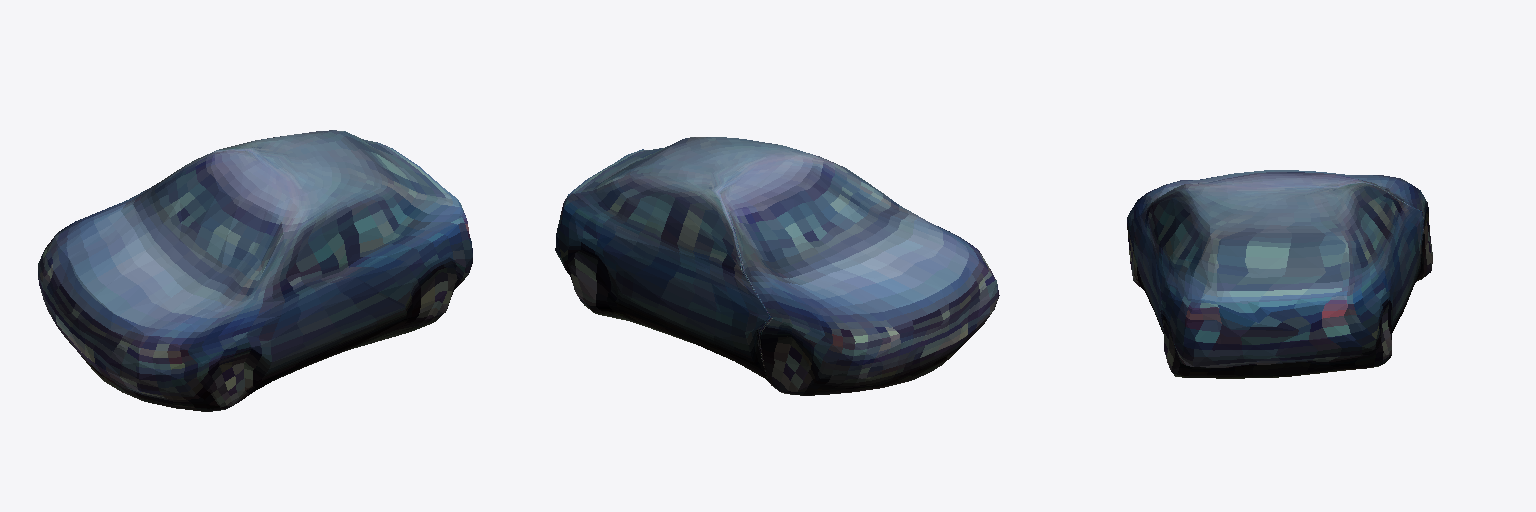
3 views of the same model, side by side, from view 1: azimuth 30°, elevation 25°; view 2: azimuth 150°, elevation 25°; view 3: azimuth 270°, elevation 25° (orthographic).
Bounding box in the file's own units: 1 × 0.4325 × 0.727.
1 materials, 1 textured.